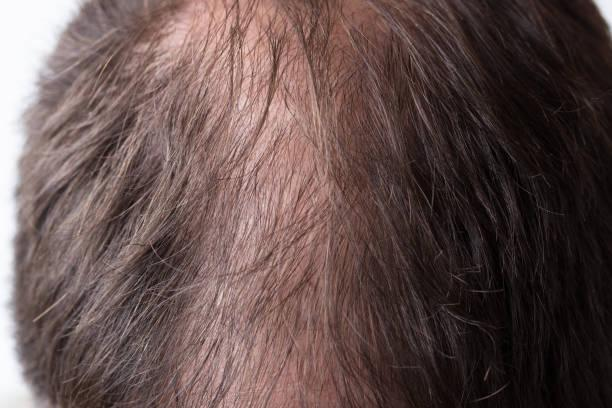low hair density: (176, 9, 331, 230)
